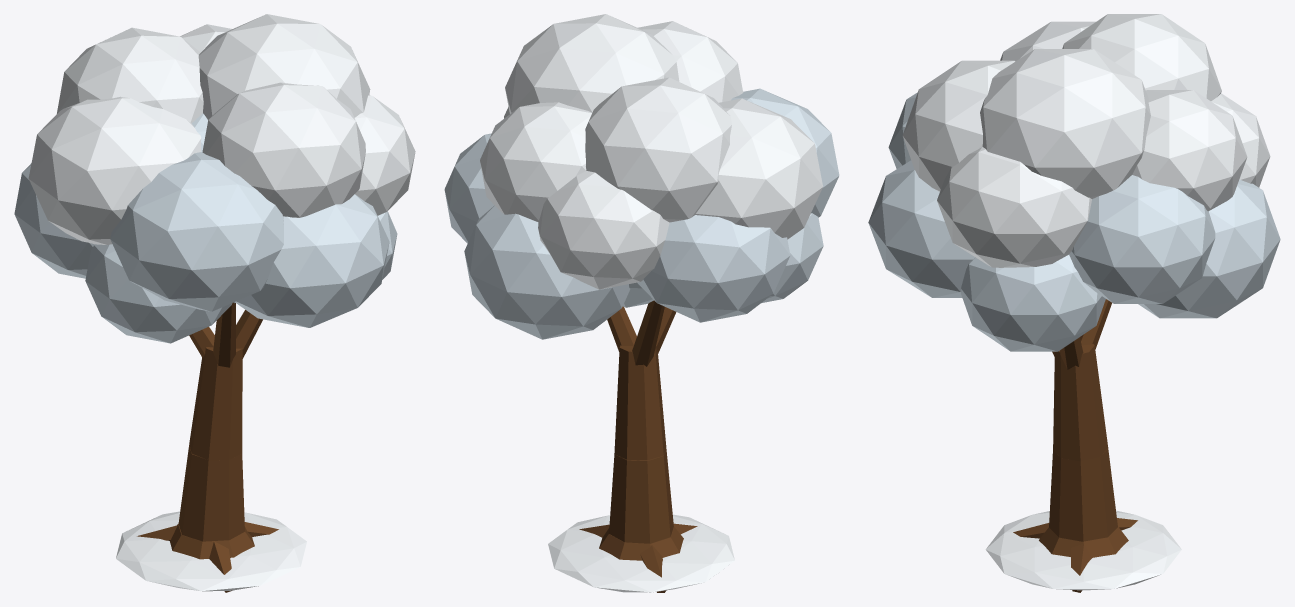
The model's file is tree-snowy.glb.
3 views of the same model, side by side, from view 1: azimuth 30°, elevation 25°; view 2: azimuth 150°, elevation 25°; view 3: azimuth 270°, elevation 25° (orthographic). The views are drawn at different scales.
Parts seen in each view (by area): view 1: Snowy_Crown, Snowy_Trunk; view 2: Snowy_Crown, Snowy_Trunk; view 3: Snowy_Crown, Snowy_Trunk.
Boxes of the visible parts, x1,y1,x2,y2 form: Snowy_Crown: [14, 14, 415, 591]; Snowy_Trunk: [137, 302, 278, 592]; Snowy_Crown: [444, 14, 839, 592]; Snowy_Trunk: [579, 300, 697, 592]; Snowy_Crown: [868, 14, 1280, 590]; Snowy_Trunk: [1013, 299, 1137, 592].
Bounding box in the file's own units: 2.15 × 3.29 × 2.31.
